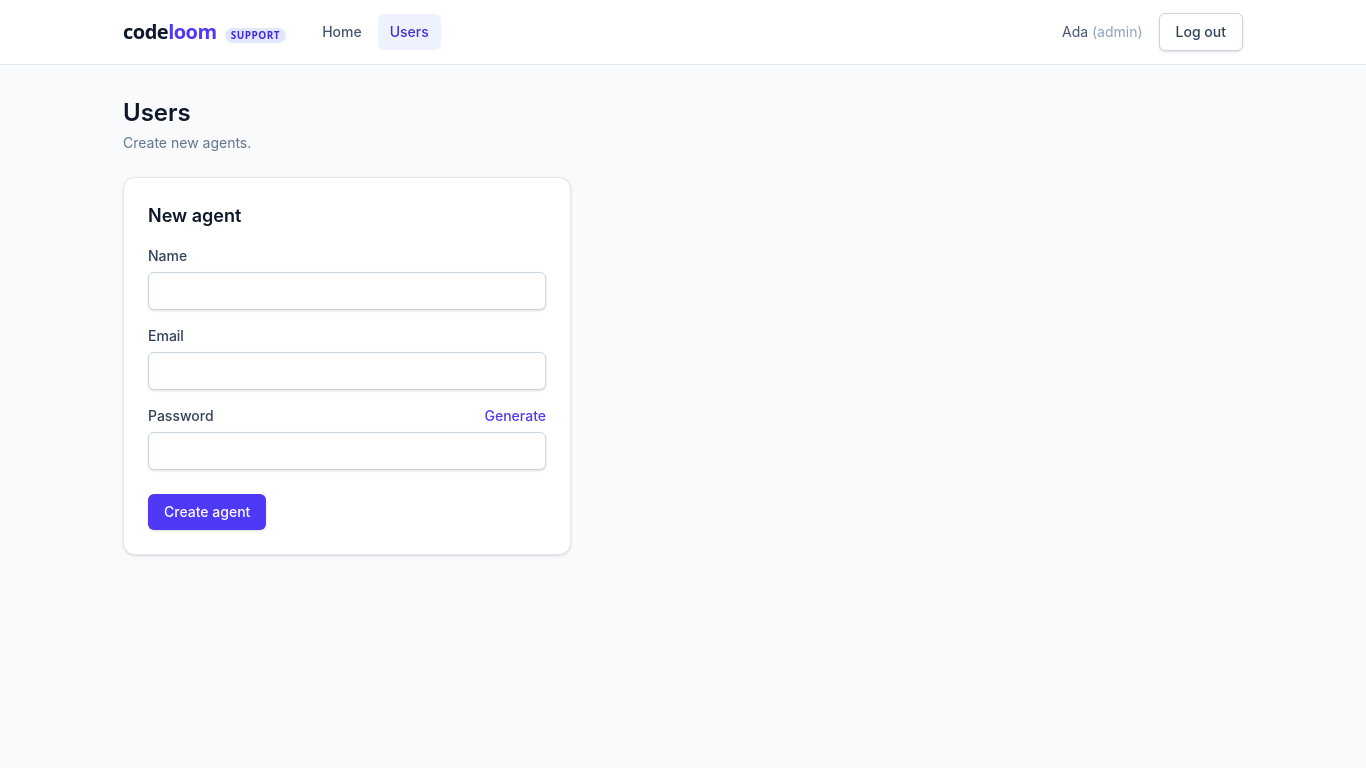
UsersPage › shows validation errors without calling the API
Step 1. Click the button "Create agent" → (207, 512), box [148,494,266,530]
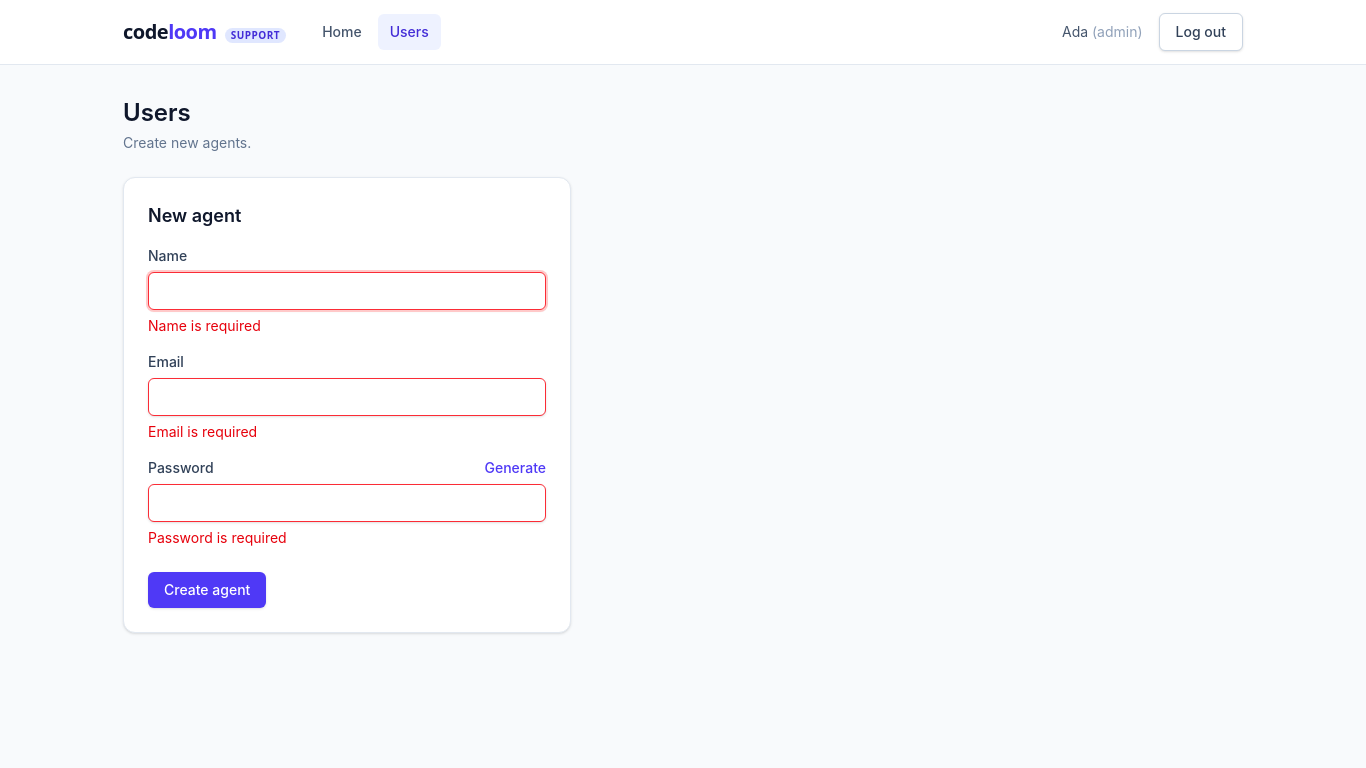
Expected: the text "Name is required" is shown, [148,317,261,334]
Expected: the text "Email is required" is shown, [148,423,257,440]
Expected: the text "Password is required" is shown, [148,529,287,546]
